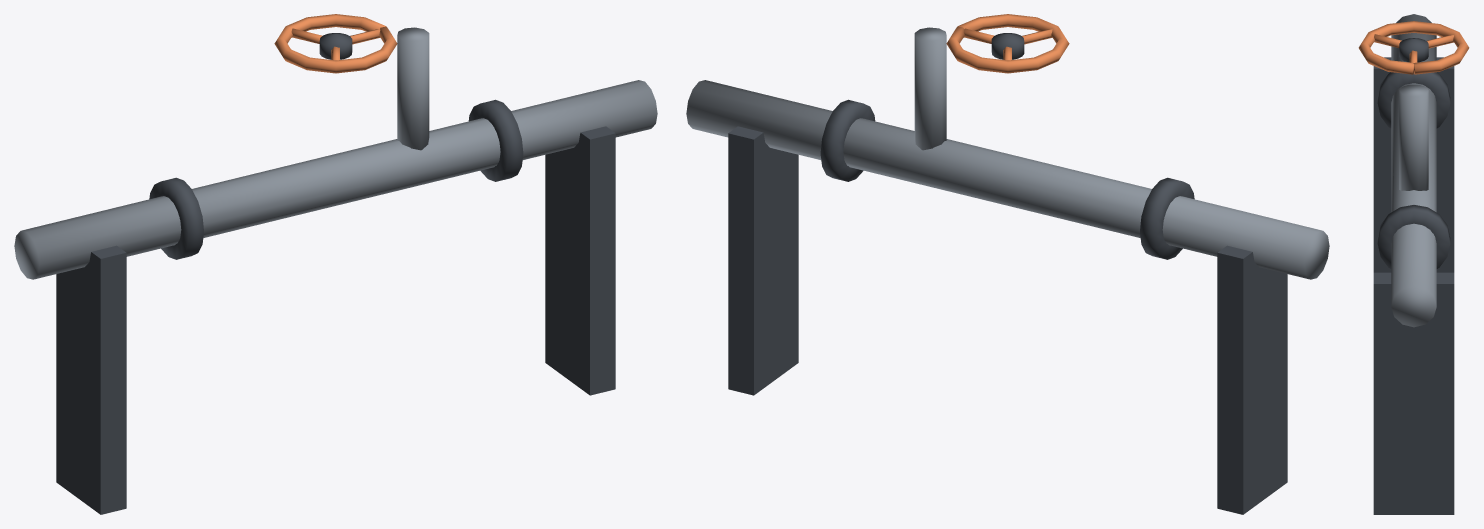
The model's file is prop_pipes.glb.
3 views of the same model, side by side, from view 1: azimuth 30°, elevation 25°; view 2: azimuth 150°, elevation 25°; view 3: azimuth 270°, elevation 25° (orthographic). The views are drawn at different scales.
Parts seen in each view (by area): view 1: main, bracket, bracket.001, branch, rim, flange.001, flange, hub; view 2: main, bracket, bracket.001, branch, rim, flange.001, flange, hub; view 3: bracket.001, main, bracket, branch, rim, flange.001, flange, hub, spoke2, spoke1.
Part boxes in pixels (box(x1,y1,x2,y2)): main: box(14, 80, 657, 279); bracket: box(56, 245, 126, 514); bracket.001: box(545, 126, 615, 395); branch: box(397, 27, 429, 150); rim: box(274, 14, 397, 73); flange.001: box(468, 99, 523, 181); flange: box(149, 177, 203, 259); hub: box(319, 33, 352, 59); main: box(686, 80, 1329, 279); bracket: box(1217, 245, 1287, 514); bracket.001: box(728, 126, 798, 395); branch: box(914, 27, 946, 150); rim: box(946, 14, 1069, 73); flange.001: box(820, 99, 875, 181); flange: box(1140, 177, 1194, 259); hub: box(991, 33, 1024, 59); bracket.001: box(1373, 272, 1454, 514); main: box(1391, 14, 1436, 327); bracket: box(1373, 57, 1454, 272); branch: box(1399, 84, 1428, 190); rim: box(1358, 21, 1469, 74); flange.001: box(1377, 205, 1450, 268); flange: box(1377, 72, 1450, 128); hub: box(1399, 38, 1428, 62); spoke2: box(1374, 34, 1401, 47); spoke1: box(1426, 35, 1453, 48).
Size of the model in its own units: 2.4 by 1.49 by 0.414.
